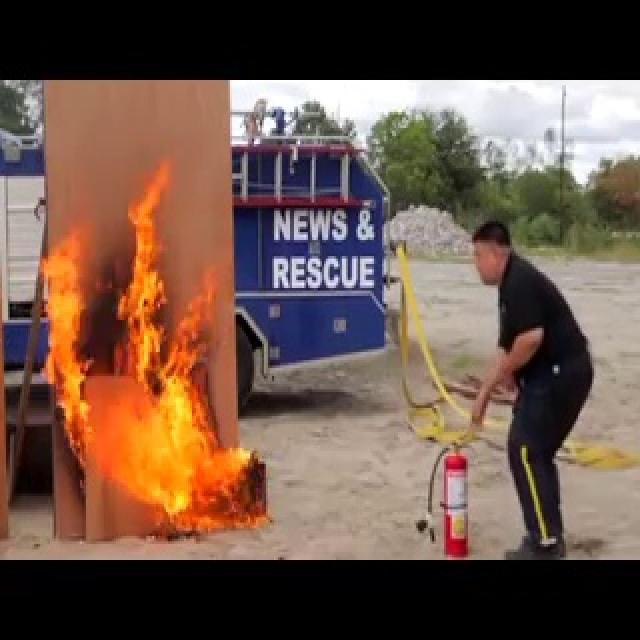fire: (33, 133, 267, 539)
